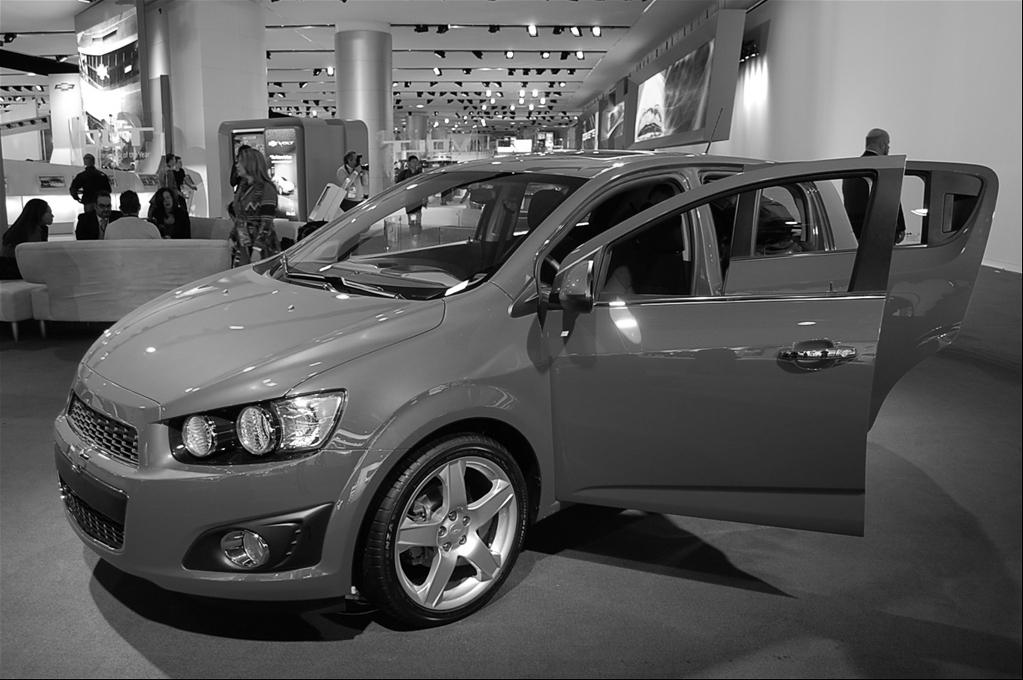car: (47, 150, 1007, 635)
